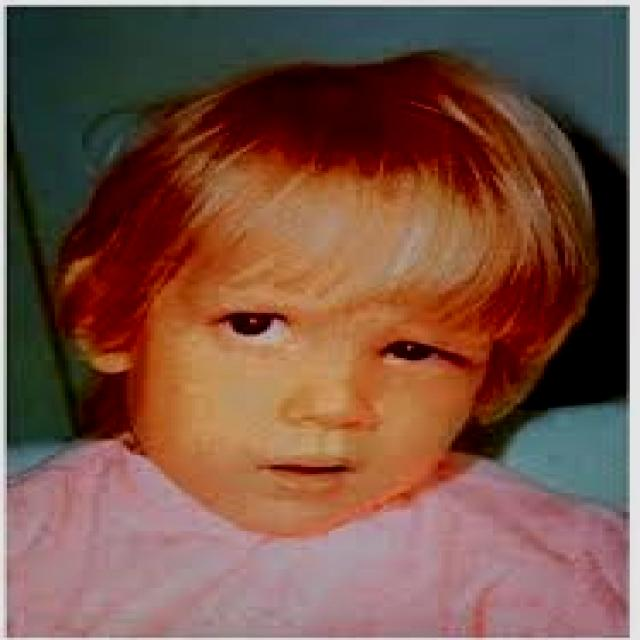stroke_face: (87, 87, 548, 569)
